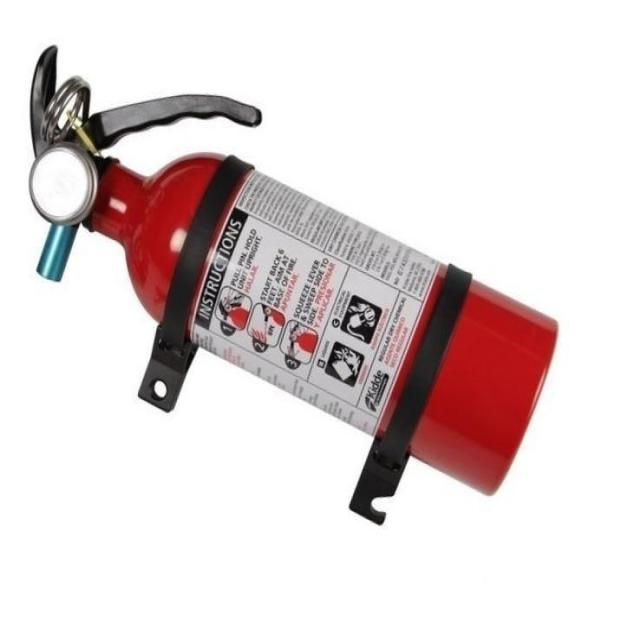fire_extinguisher: (22, 38, 566, 500)
